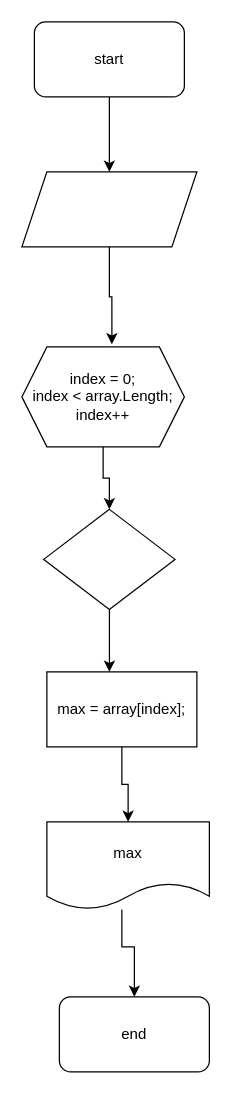
Image size: 231x1094. Some labels were removed from this diagram. The centre of each missing label's shape, as x and y in pixels:
"array = { 1, 9, 3, 8 }; max = array[0];" goes at point (109, 209).
"max < array[index]" goes at point (108, 558).
